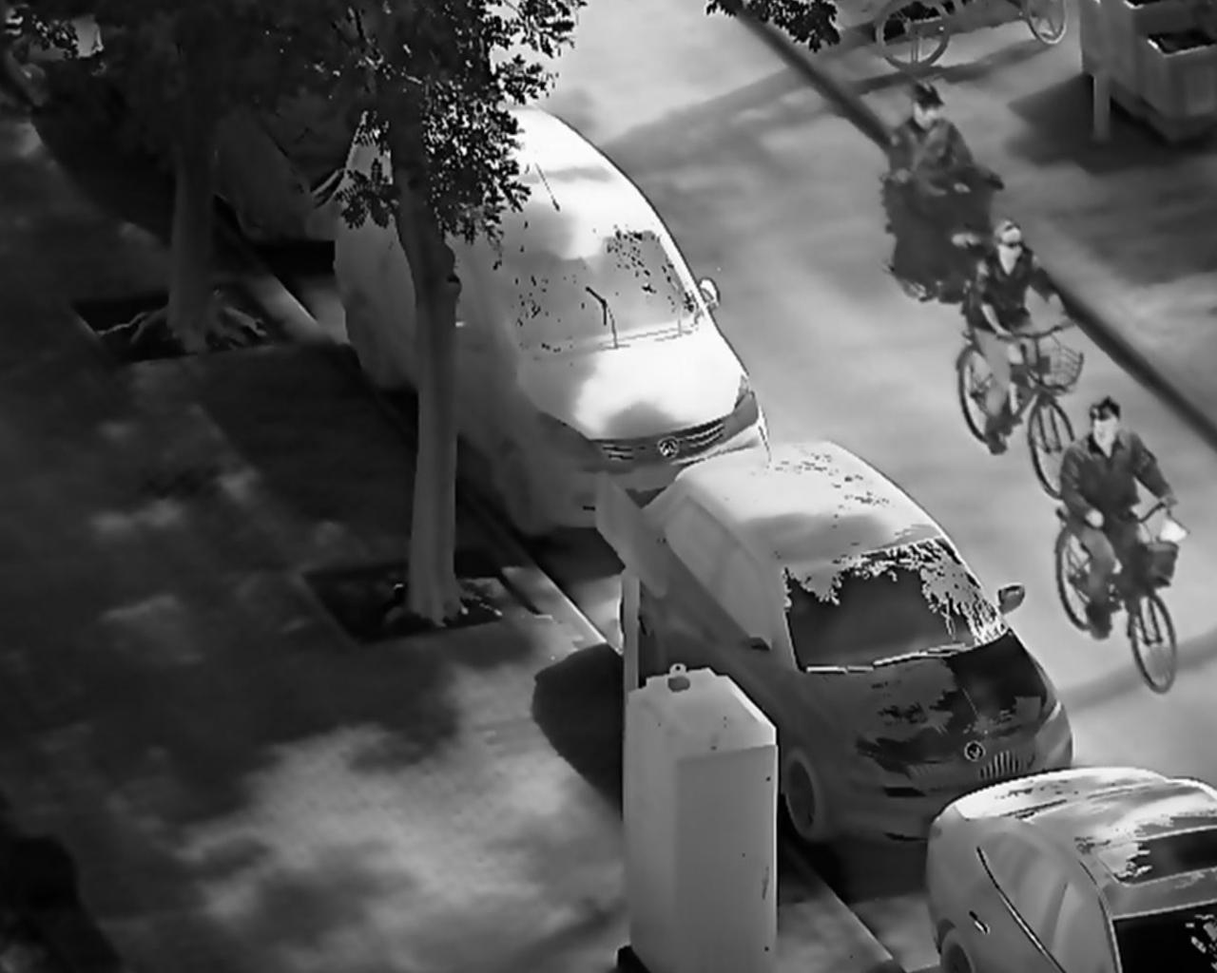person: (1059, 395, 1183, 641), (961, 217, 1074, 457), (886, 79, 977, 248)
